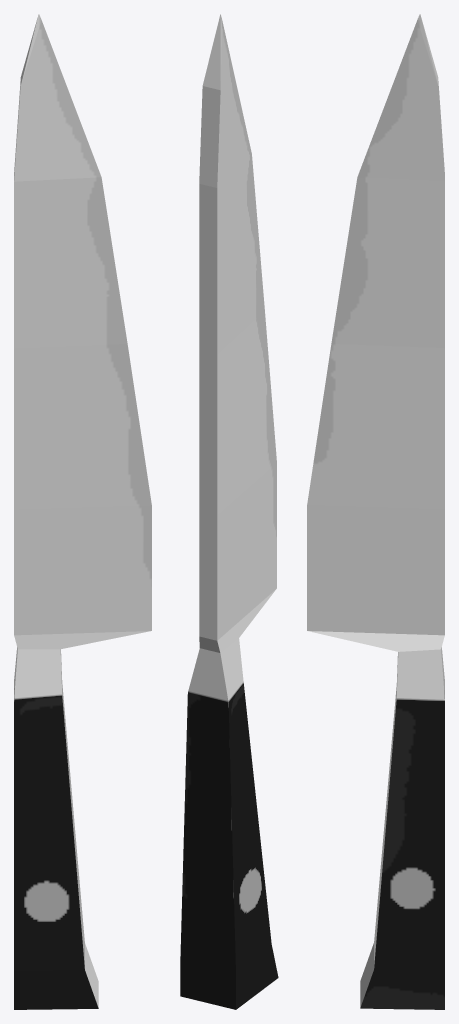
File: knife.fbx
The picture shows the model from 3 angles, left to right: view 1: azimuth 90°, elevation 25°; view 2: azimuth 150°, elevation 25°; view 3: azimuth 270°, elevation 25°; orthographic projection.
Parts seen in each view (by area): view 1: Cube; view 2: Cube; view 3: Cube.
Part boxes in pixels (<box>): Cube: <box>14,14,151,1009</box>; Cube: <box>180,14,278,1009</box>; Cube: <box>307,14,444,1009</box>.
Size of the model in its own units: 28.16 by 472 by 60.
1 material, 1 textured.
